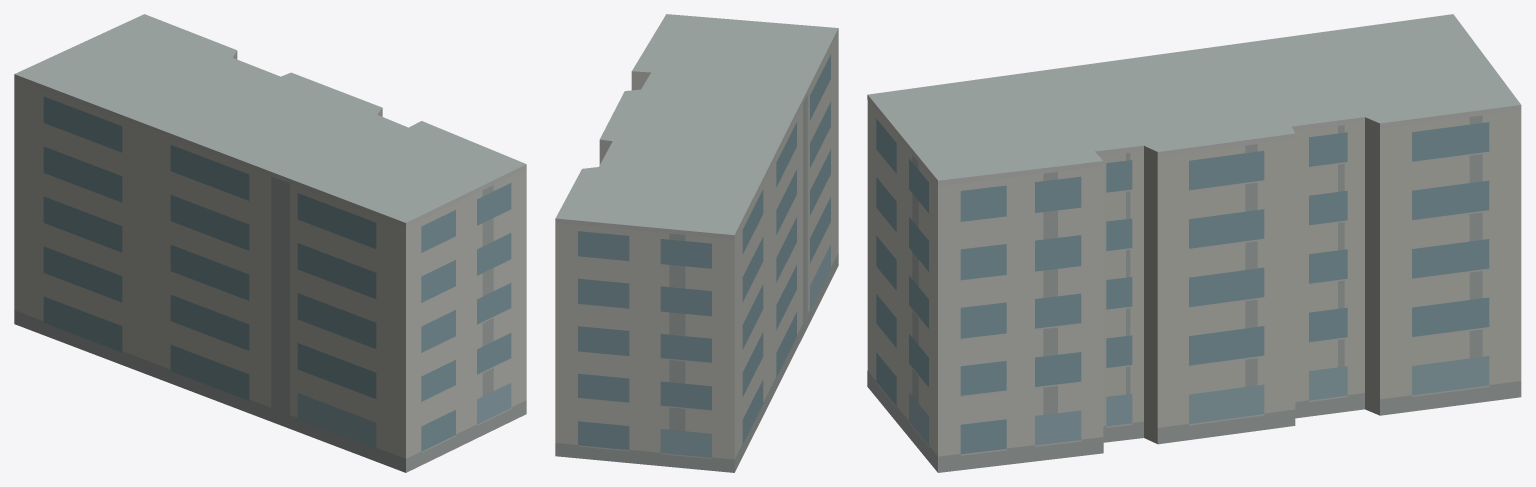
File: survey-upis-32568464.glb
3 views of the same model, side by side, from view 1: azimuth 30°, elevation 25°; view 2: azimuth 150°, elevation 25°; view 3: azimuth 270°, elevation 25° (orthographic). The views are drawn at different scales.
Visible parts, largest first — view 1: survey-upis-32568464.tmp; view 2: survey-upis-32568464.tmp; view 3: survey-upis-32568464.tmp.
Part boxes in pixels (box(x1,y1,x2,y2)): survey-upis-32568464.tmp: box(14, 14, 526, 472); survey-upis-32568464.tmp: box(555, 14, 838, 472); survey-upis-32568464.tmp: box(867, 14, 1521, 472).
Size of the model in its own units: 16.15 by 13.2 by 26.77.
